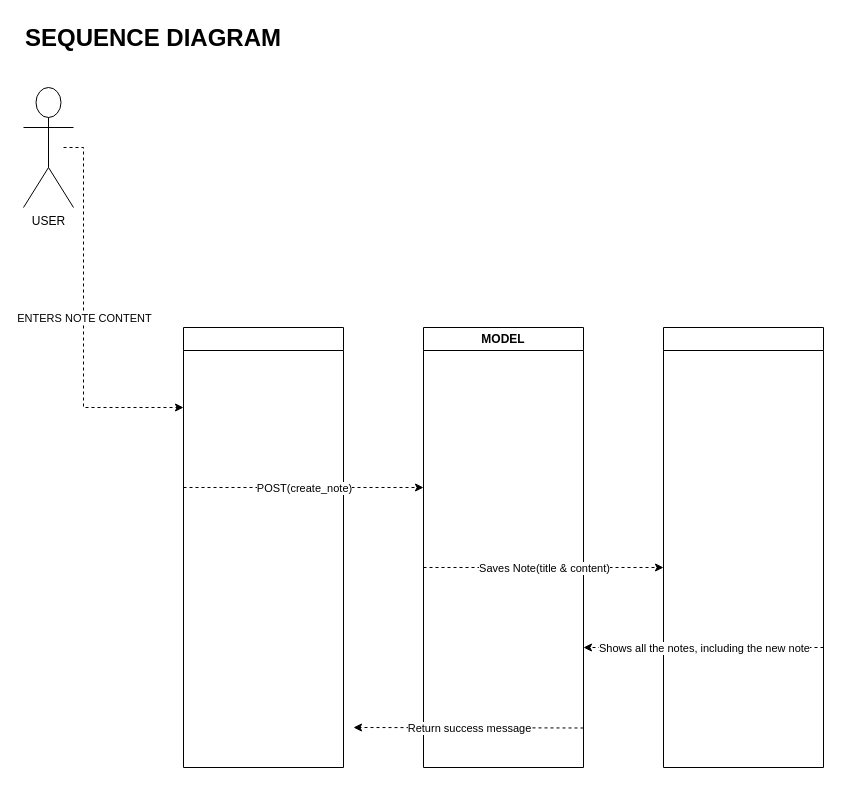
Image size: 849x785. Some labels were removed from this diagram. The centre of each missing label's shape, as x and y in pixels:
DJANGO VIEW: (263,547)
TEMPLETE: (743,547)
